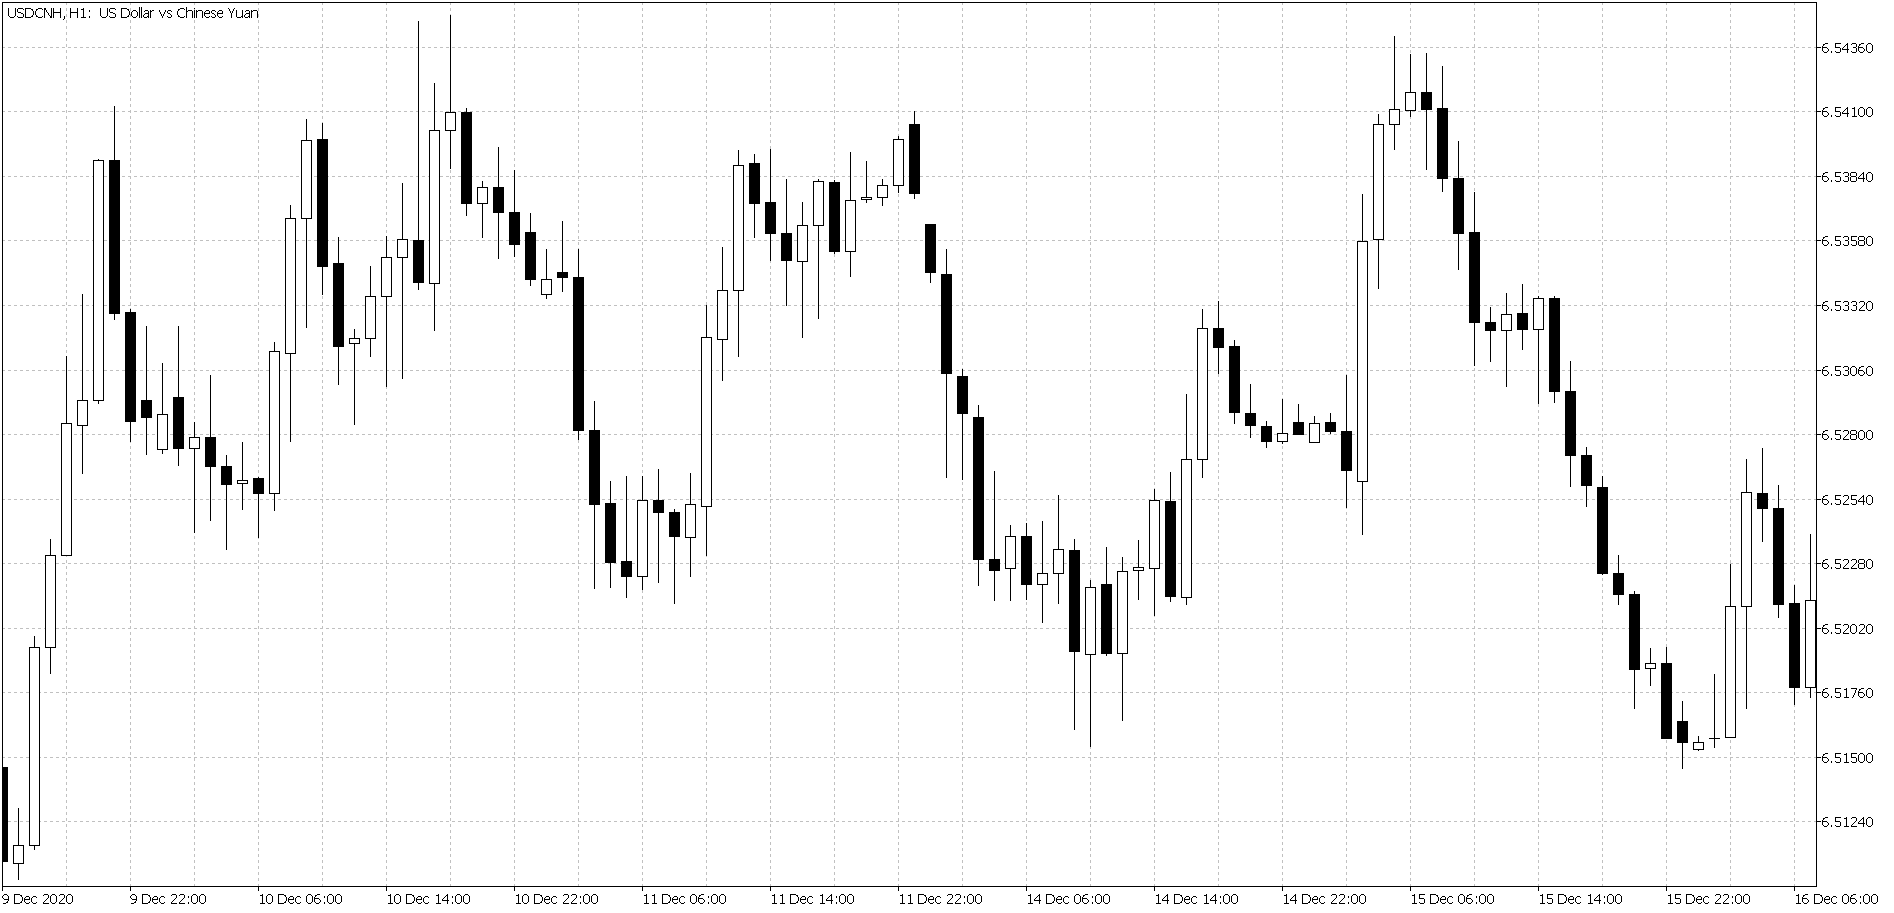tripleTops: (40, 51, 533, 421)
